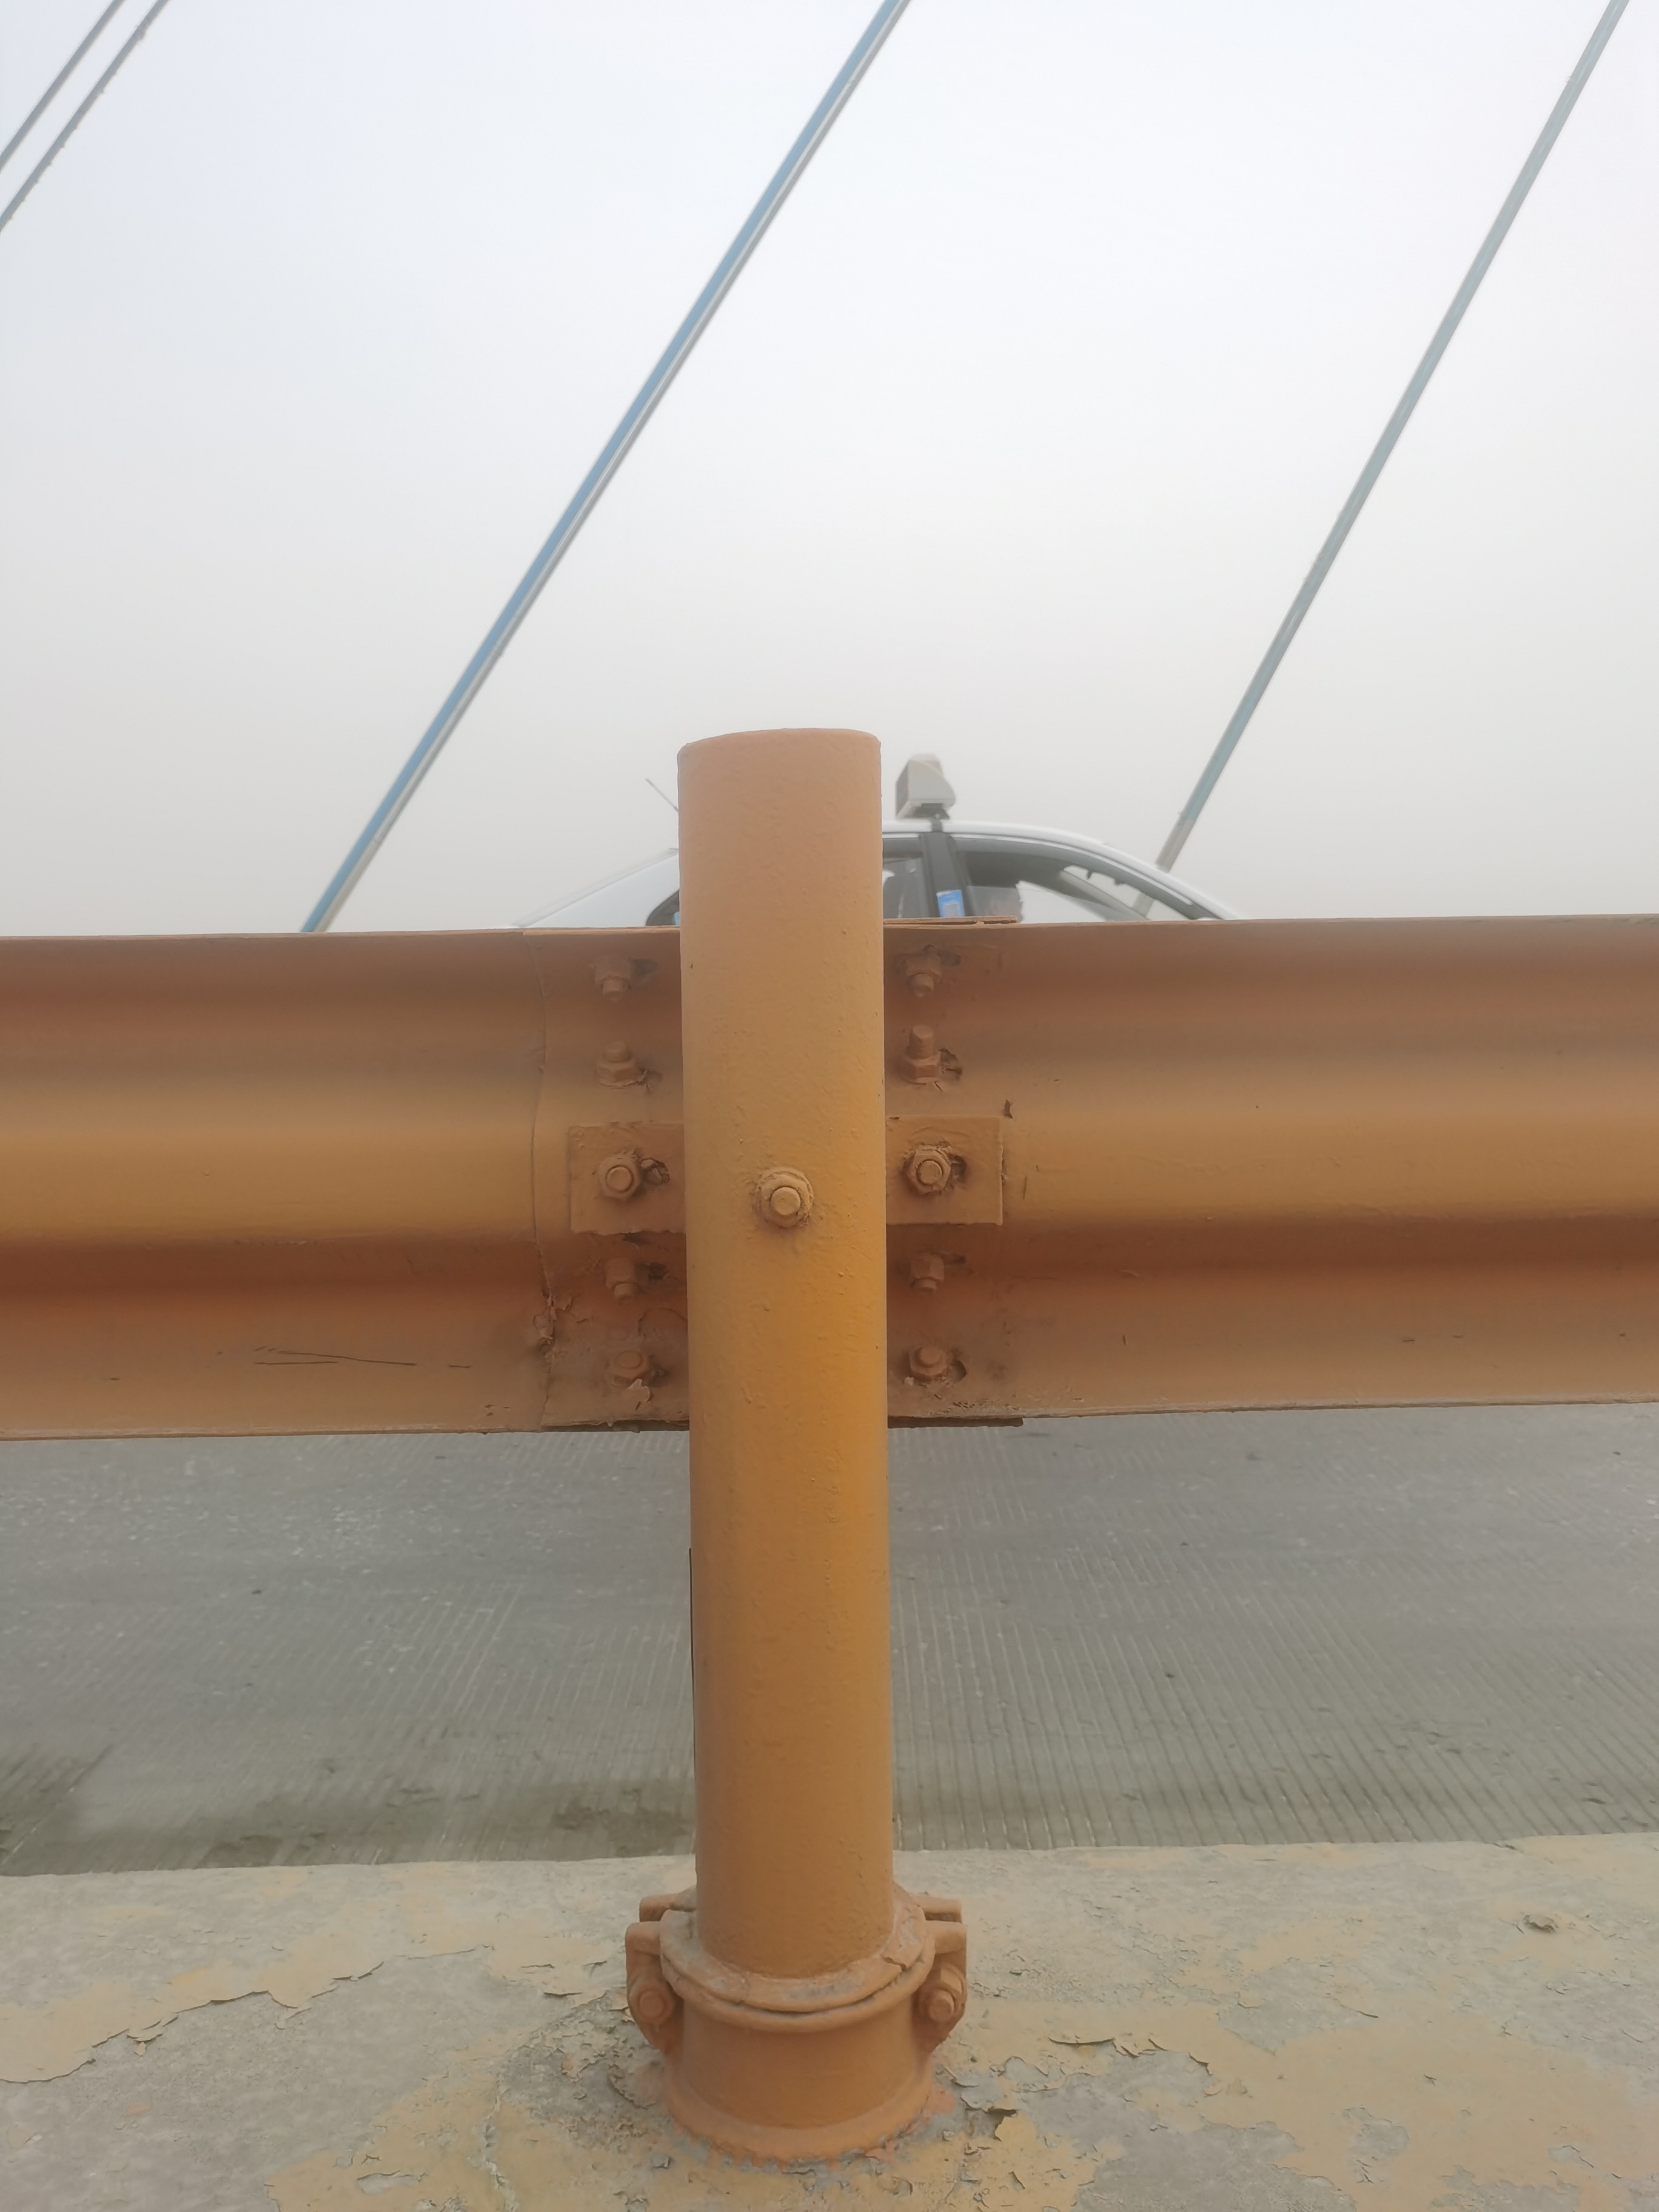bolt_b: (756, 1172, 816, 1233), (899, 1146, 955, 1200), (594, 1153, 645, 1204), (605, 1346, 659, 1388), (903, 1252, 950, 1299), (592, 954, 638, 1003), (594, 1040, 640, 1087), (904, 1341, 951, 1386), (601, 1261, 652, 1303), (897, 1038, 943, 1083), (901, 954, 946, 1000)
